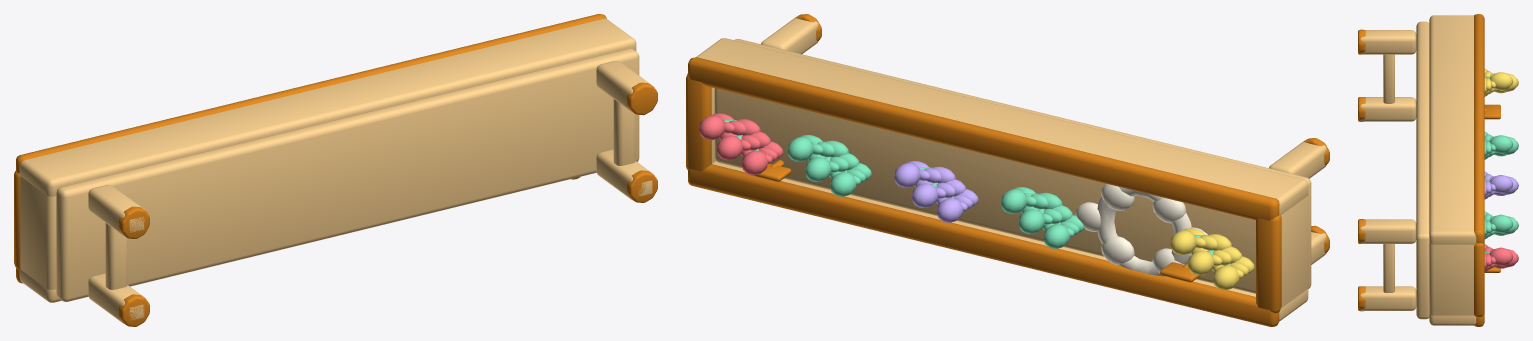
Rendered from PatioHerbTrough_Premium.fbx.
The picture shows the model from 3 angles, left to right: view 1: azimuth 30°, elevation 25°; view 2: azimuth 150°, elevation 25°; view 3: azimuth 270°, elevation 25°; orthographic projection. The views are drawn at different scales.
Visible parts, largest first — view 1: PatioHerbTrough; view 2: PatioHerbTrough; view 3: PatioHerbTrough.
Boxes of the visible parts, box(x1,y1,x2,y2) form: PatioHerbTrough: box(14, 14, 657, 326); PatioHerbTrough: box(686, 14, 1329, 326); PatioHerbTrough: box(1358, 14, 1518, 326).
Size of the model in its own units: 1.61 by 0.341 by 0.496.
